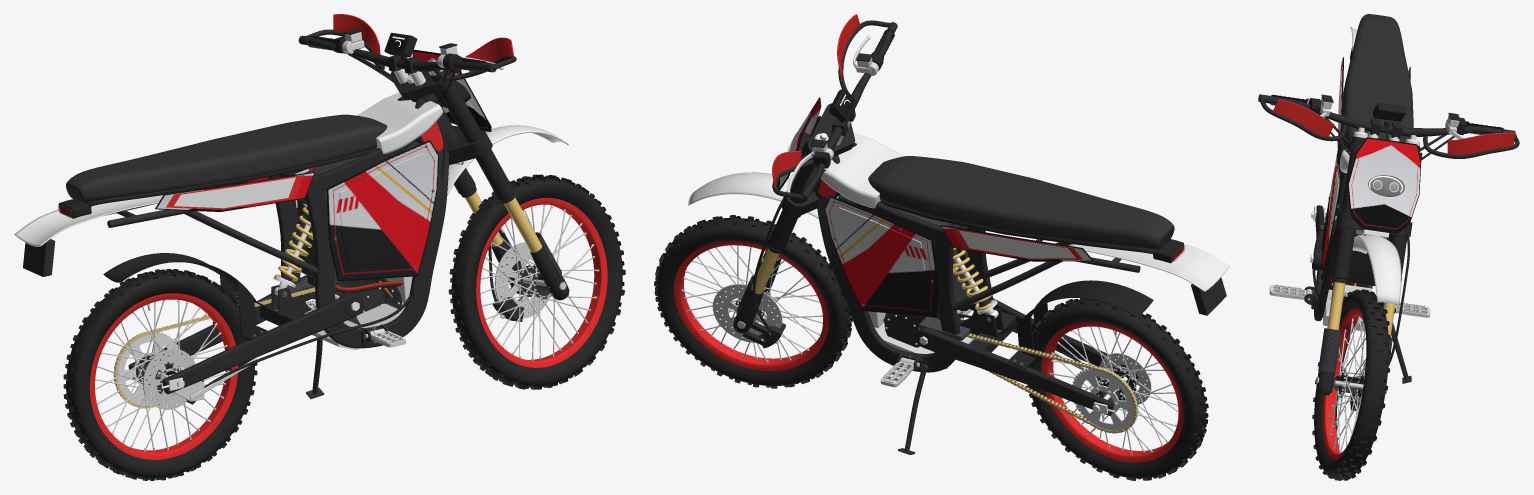
File: surron-light-bee-x-racer.glb
3 renders of one model, left to right at view 1: azimuth 30°, elevation 25°; view 2: azimuth 150°, elevation 25°; view 3: azimuth 270°, elevation 25°, orthographic. The views are drawn at different scales.
Visible parts, largest first — view 1: Seat, Tire_R, Tire_F, Frame_Main, SidePanel_Inner_R, Swingarm_Arms, SidePanel_R, Rim_F, Rim_R, Spokes_F, Spokes_R, TankCover (+26 smaller); view 2: Seat, Tire_F, Tire_R, Frame_Main, SidePanel_Inner_L, Swingarm_Arms, Rim_F, SidePanel_L, Rim_R, TankCover, RearFender, Spokes_R (+24 smaller); view 3: Tire_F, Seat, HeadlightShroud, Acc_Handguards, FrontFender, Spokes_F, Rim_F, Handlebar, Fork_Upper_R, Acc_Handguard_Spines, Frame_Main, Battery_Pack (+17 smaller).
Part boxes in pixels (left/top/right/bottom): Seat: left=66, top=114, right=387, bottom=202; Tire_R: left=63, top=269, right=257, bottom=480; Tire_F: left=448, top=174, right=625, bottom=389; Frame_Main: left=269, top=96, right=449, bottom=348; SidePanel_Inner_R: left=339, top=153, right=429, bottom=266; Swingarm_Arms: left=128, top=275, right=363, bottom=393; SidePanel_R: left=326, top=140, right=439, bottom=281; Rim_F: left=476, top=197, right=607, bottom=367; Rim_R: left=89, top=293, right=238, bottom=459; Spokes_F: left=480, top=205, right=598, bottom=359; Spokes_R: left=95, top=300, right=227, bottom=450; TankCover: left=357, top=92, right=443, bottom=153; Seat: left=868, top=156, right=1174, bottom=249; Tire_F: left=654, top=215, right=852, bottom=388; Tire_R: left=1026, top=298, right=1208, bottom=480; Frame_Main: left=815, top=143, right=992, bottom=372; SidePanel_Inner_L: left=834, top=207, right=925, bottom=304; Swingarm_Arms: left=915, top=289, right=1143, bottom=415; Rim_F: left=674, top=241, right=828, bottom=370; SidePanel_L: left=824, top=195, right=938, bottom=317; Rim_R: left=1041, top=321, right=1183, bottom=462; TankCover: left=821, top=133, right=904, bottom=208; RearFender: left=1069, top=243, right=1229, bottom=291; Spokes_R: left=1049, top=326, right=1178, bottom=454; Tire_F: left=1312, top=289, right=1390, bottom=480; Seat: left=1341, top=14, right=1413, bottom=148; HeadlightShroud: left=1347, top=137, right=1421, bottom=233; Acc_Handguards: left=1273, top=99, right=1515, bottom=154; FrontFender: left=1352, top=234, right=1401, bottom=305; Spokes_F: left=1328, top=317, right=1365, bottom=451; Rim_F: left=1322, top=308, right=1364, bottom=459; Handlebar: left=1272, top=96, right=1502, bottom=136; Fork_Upper_R: left=1332, top=136, right=1365, bottom=279; Acc_Handguard_Spines: left=1258, top=94, right=1519, bottom=158; Frame_Main: left=1311, top=139, right=1391, bottom=321; Battery_Pack: left=1331, top=175, right=1389, bottom=285.
Bounding box in the file's own units: 1.97 × 1.22 × 0.8437.
Materials: 46 (4 with a texture image).
